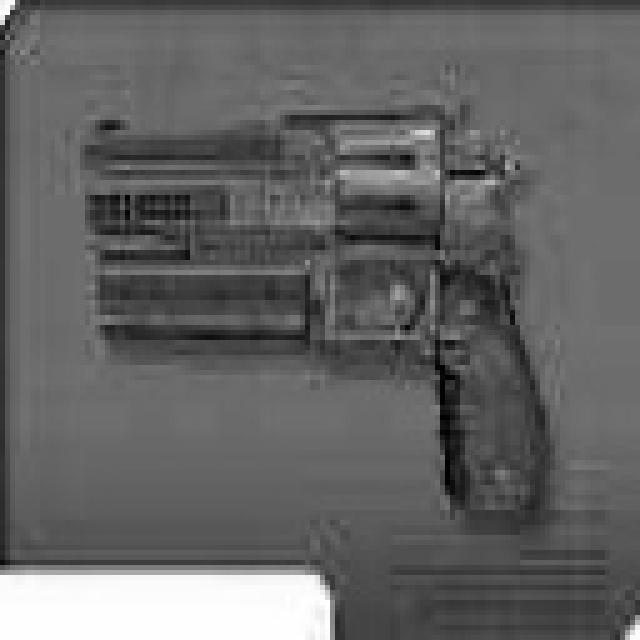Rifle: (0, 0, 585, 545)
